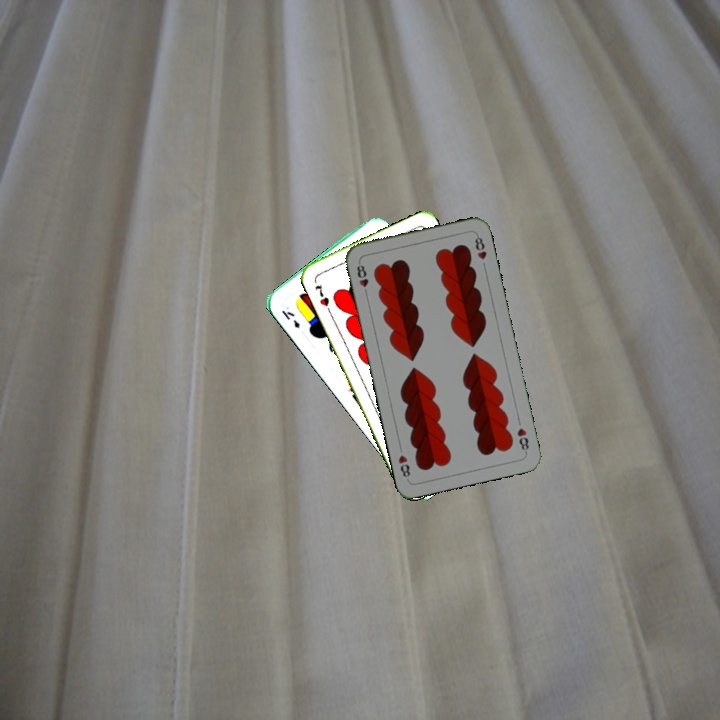EK: (278, 306, 303, 331)
H7: (311, 280, 332, 309)
H8: (353, 258, 371, 298), (513, 424, 531, 456)
